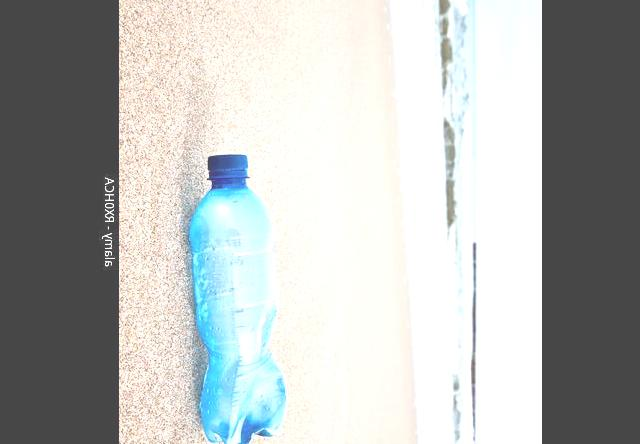bottle: (168, 142, 304, 444)
